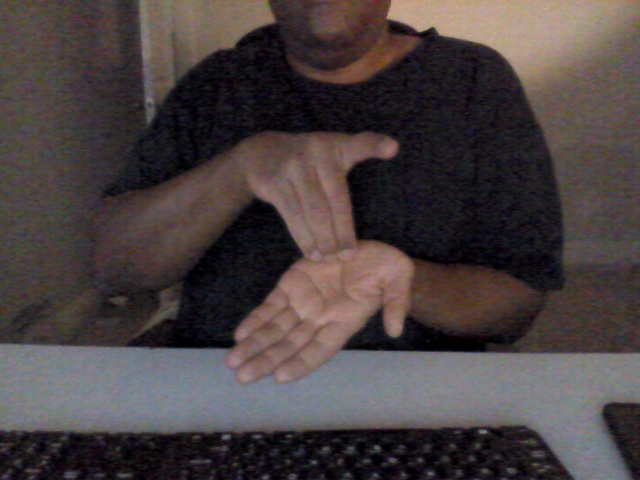doctor: (221, 123, 418, 395)
